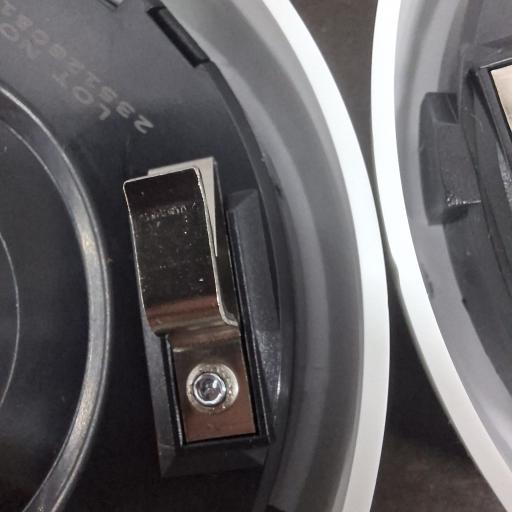yayli: (122, 163, 261, 451)
